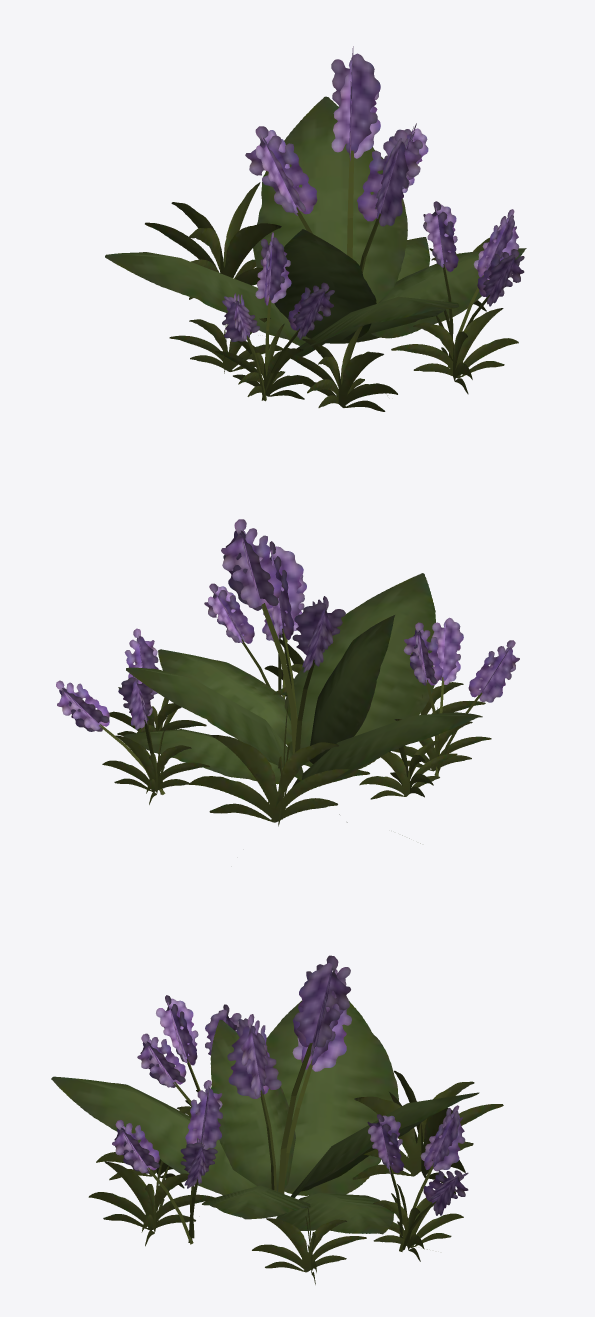
The picture shows the model from 3 angles, top to bottom: view 1: azimuth 30°, elevation 25°; view 2: azimuth 150°, elevation 25°; view 3: azimuth 270°, elevation 25°; orthographic projection. The views are drawn at different scales.
Visible parts, largest first — view 1: body0_model0_lod0_mesh0; view 2: body0_model0_lod0_mesh0; view 3: body0_model0_lod0_mesh0.
Part boxes in pixels (x1,y1,x2,y2): body0_model0_lod0_mesh0: (105, 46, 526, 411); body0_model0_lod0_mesh0: (56, 519, 519, 843); body0_model0_lod0_mesh0: (51, 955, 503, 1284).
Bounding box in the file's own units: 69.28 × 50.5 × 74.08.
Materials: 1 (1 with a texture image).
